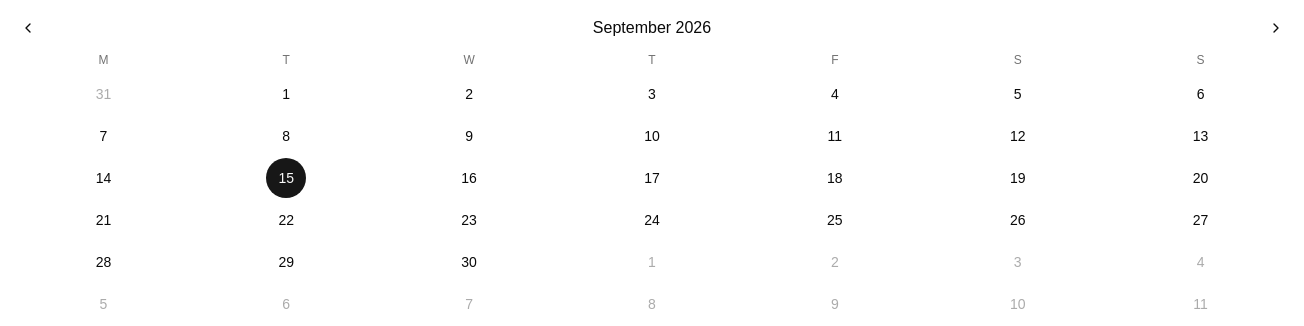
Scenario: MonthCalendar › still steps a month at a time from the chevrons
Click the button named "Previous month": (28, 28) [12,12,44,44]
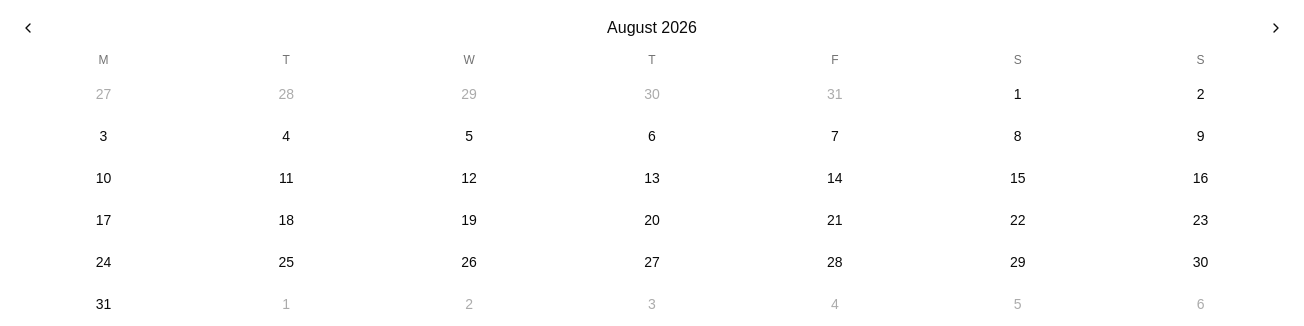
Expected: the text "August 2026" is shown, [607,16,697,40]
Click the button named "Next month": (1276, 28) [1260,12,1292,44]
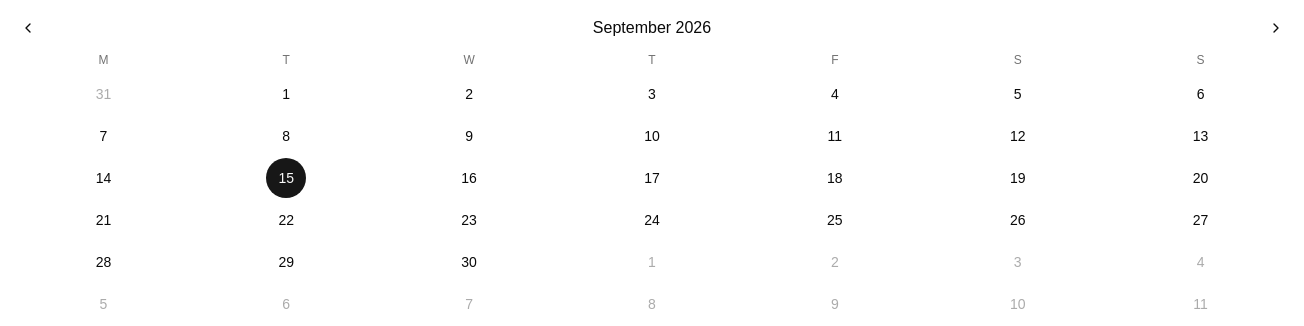
Click the button named "Next month": (1276, 28) [1260,12,1292,44]
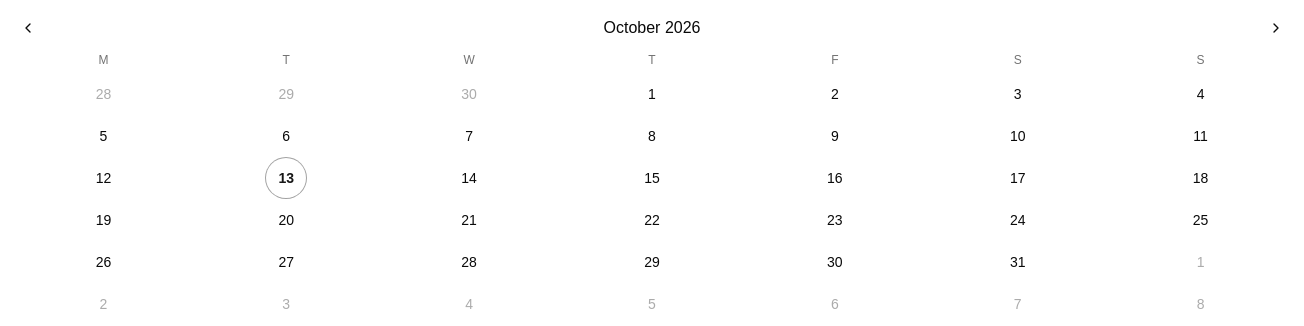
Expected: the text "October 2026" is shown, [604,16,700,40]
